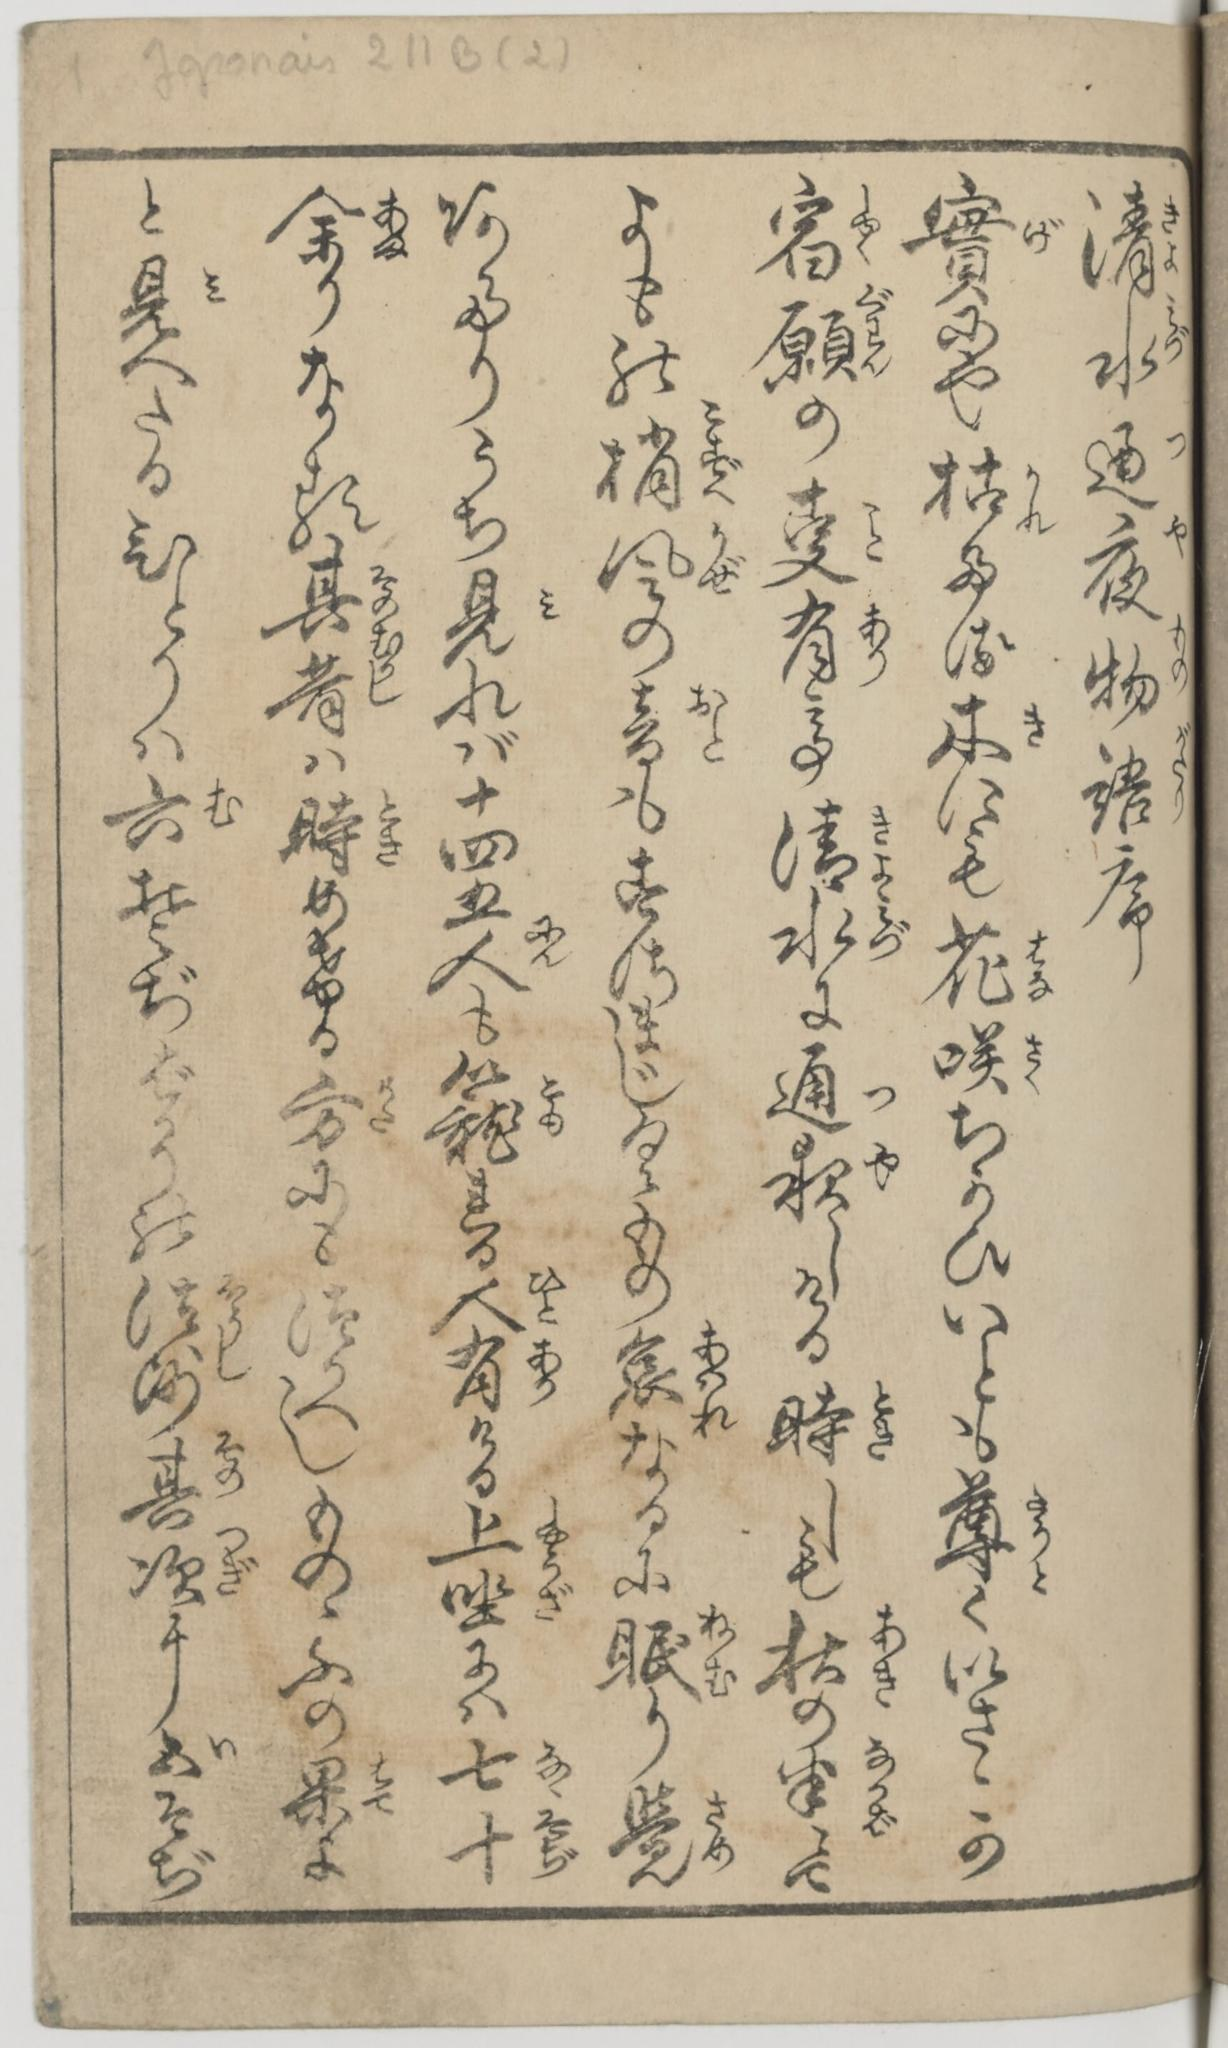MainZone-Character: (594, 1305, 744, 1462), (902, 170, 1067, 307), (417, 1050, 580, 1172), (247, 536, 417, 655), (582, 399, 751, 513), (924, 1466, 1070, 1595), (747, 281, 902, 395), (754, 1602, 914, 1709), (754, 795, 915, 900), (747, 172, 899, 284), (604, 1779, 743, 1899), (763, 475, 903, 591), (262, 178, 422, 275), (602, 1601, 746, 1706), (428, 1317, 573, 1418), (1077, 719, 1194, 842), (1076, 507, 1193, 629), (95, 770, 253, 860), (117, 1431, 260, 1529), (769, 1735, 905, 1837), (107, 1266, 266, 1352), (773, 592, 903, 697), (592, 515, 750, 601), (757, 1041, 906, 1131), (1073, 177, 1189, 294), (418, 1260, 575, 1346), (925, 441, 1063, 539), (762, 1376, 906, 1468), (1079, 607, 1194, 719), (765, 1131, 908, 1221), (1073, 294, 1194, 399), (922, 1003, 1055, 1098), (257, 658, 412, 738), (925, 911, 1063, 1001), (421, 919, 573, 1001), (439, 1801, 588, 1884), (114, 1343, 259, 1428), (1076, 415, 1197, 516), (420, 1493, 575, 1571), (114, 1529, 263, 1611), (439, 569, 561, 667), (102, 247, 235, 335), (615, 672, 737, 767), (279, 789, 409, 877), (767, 899, 917, 975), (922, 691, 1051, 773), (282, 1748, 406, 1832), (422, 1571, 586, 1634), (437, 1728, 580, 1798), (281, 1072, 403, 1152)
MainZone-Ruby: (689, 1313, 741, 1444), (851, 282, 898, 389), (700, 398, 744, 509), (694, 1601, 741, 1703), (1020, 1478, 1060, 1595), (368, 184, 420, 270), (849, 595, 895, 691), (868, 1602, 909, 1707), (861, 801, 906, 896), (860, 1737, 902, 1837), (687, 678, 735, 766), (842, 178, 886, 269), (697, 522, 747, 601), (365, 564, 408, 656), (529, 1802, 580, 1878), (213, 1526, 262, 1602), (699, 1786, 737, 1876), (209, 1428, 254, 1501), (863, 900, 914, 965), (1162, 722, 1193, 829), (361, 1750, 405, 1823), (371, 786, 408, 871), (1020, 458, 1058, 538), (857, 490, 893, 573), (522, 1267, 572, 1327), (200, 772, 247, 835), (863, 1380, 899, 1460), (523, 1336, 564, 1408), (213, 1273, 257, 1339), (534, 1495, 570, 1571), (534, 1067, 570, 1143), (525, 914, 572, 972), (1019, 928, 1057, 1000), (361, 658, 411, 712), (532, 1734, 575, 1797), (1016, 1019, 1050, 1098), (1156, 190, 1186, 279), (860, 1136, 902, 1197), (532, 1574, 582, 1626), (1015, 209, 1067, 253), (1159, 297, 1191, 367), (858, 1073, 905, 1121), (367, 1076, 402, 1139), (209, 1348, 256, 1395), (1170, 615, 1193, 697), (525, 580, 563, 629), (1017, 702, 1051, 753), (196, 263, 230, 308), (1165, 513, 1193, 561), (1162, 424, 1190, 463)
